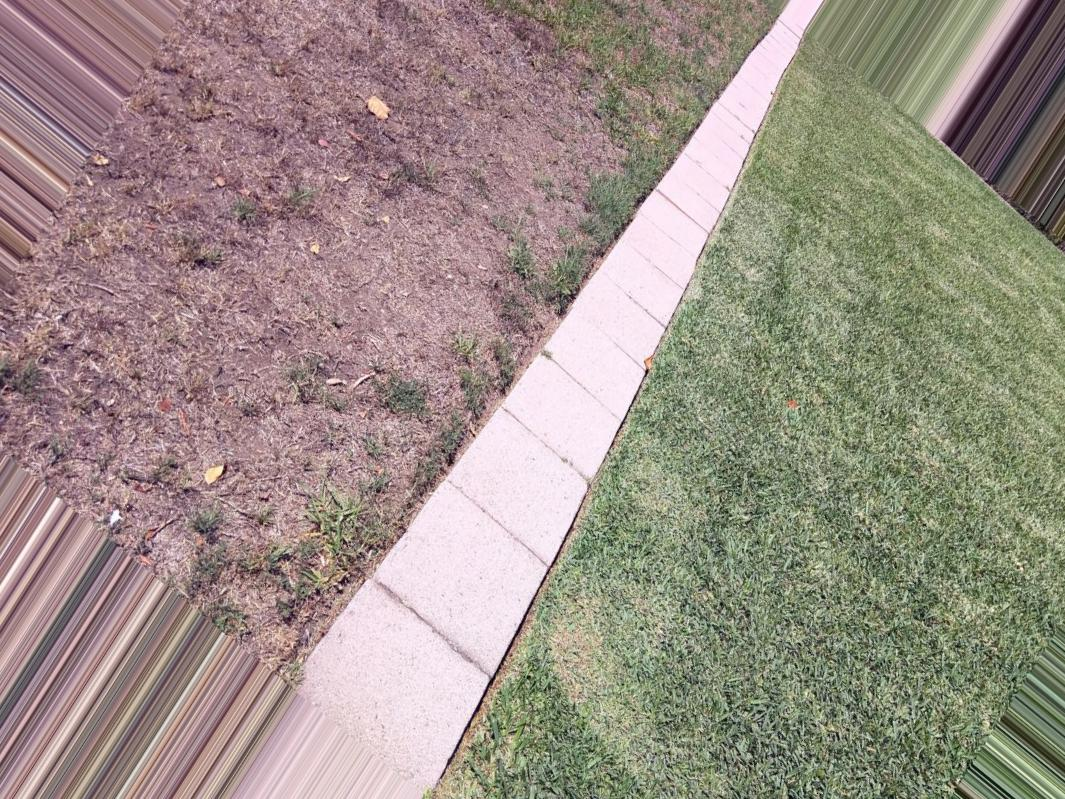patch: (185, 129, 414, 212), (94, 333, 238, 425), (444, 19, 603, 95), (493, 217, 602, 304), (160, 448, 275, 528), (318, 231, 443, 299), (117, 249, 252, 310), (470, 135, 599, 198), (258, 29, 387, 90), (288, 432, 404, 499), (276, 327, 359, 396), (413, 323, 487, 369), (382, 381, 456, 419)
